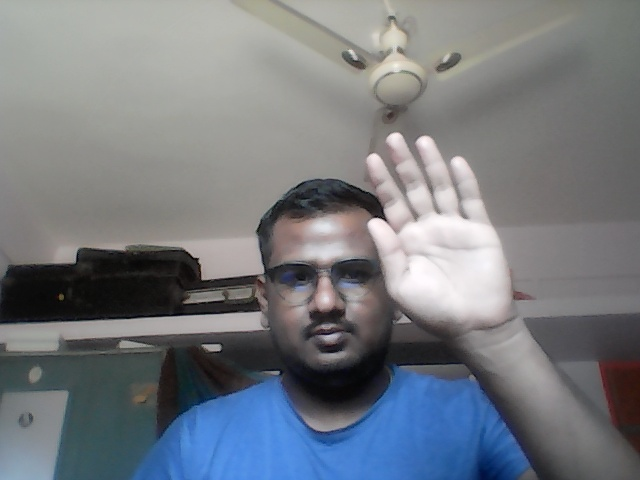Hello: (364, 129, 520, 336)
